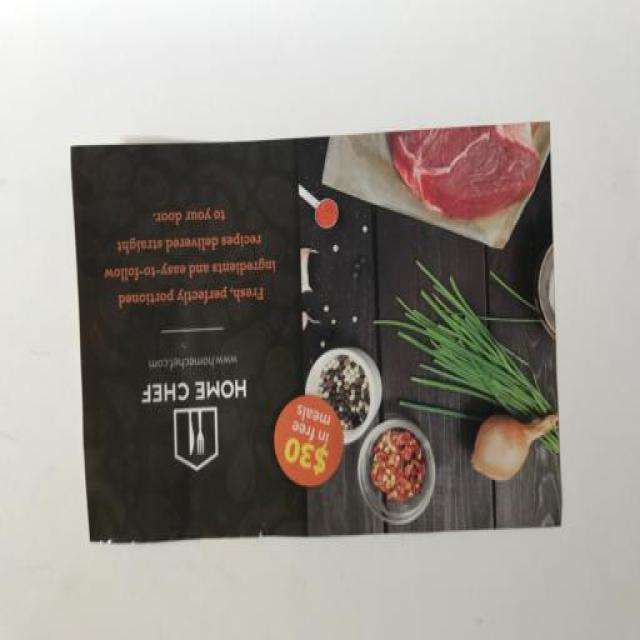paper: (34, 80, 587, 562)
